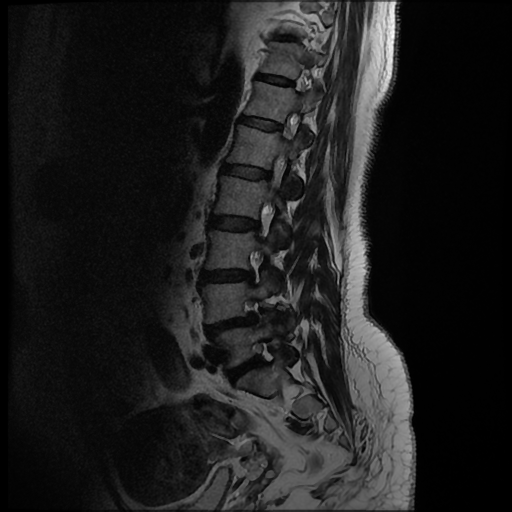LFS0: (234, 241, 275, 291), (241, 197, 283, 244), (242, 334, 285, 373)
LFS1: (232, 290, 279, 332)
